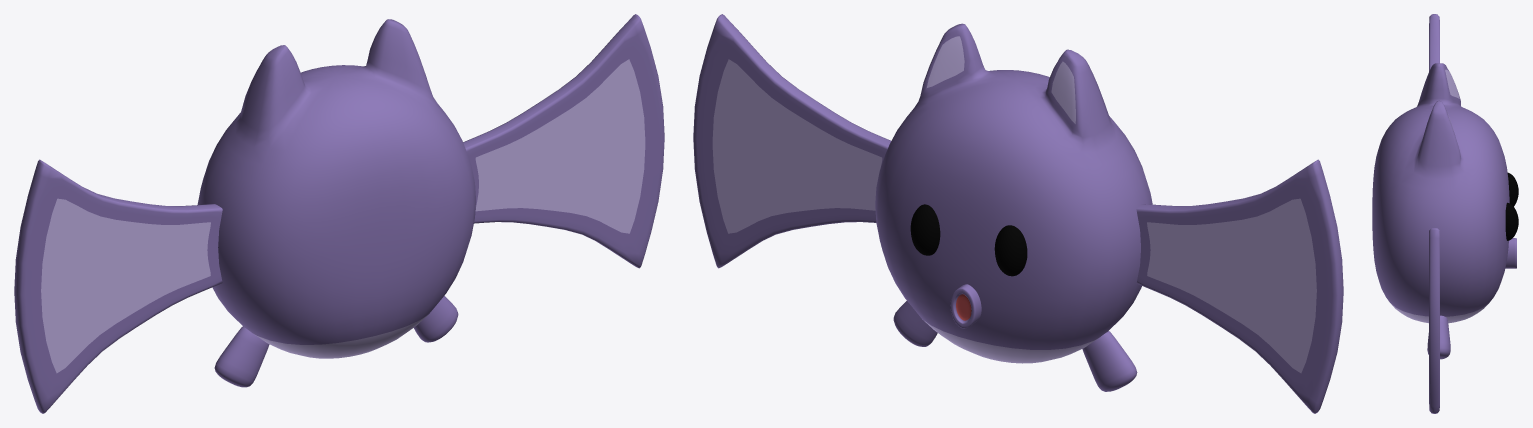
Rendered from plock4.fbx.
The picture shows the model from 3 angles, left to right: view 1: azimuth 30°, elevation 25°; view 2: azimuth 150°, elevation 25°; view 3: azimuth 270°, elevation 25°; orthographic projection. The views are drawn at different scales.
Visible parts, largest first — view 1: Sphere.005; view 2: Sphere.005; view 3: Sphere.005.
Part boxes in pixels (x1,y1,x2,y2): Sphere.005: (14,14,664,413); Sphere.005: (693,14,1343,413); Sphere.005: (1372,14,1518,413).
Size of the model in its own units: 492 by 241 by 131.
